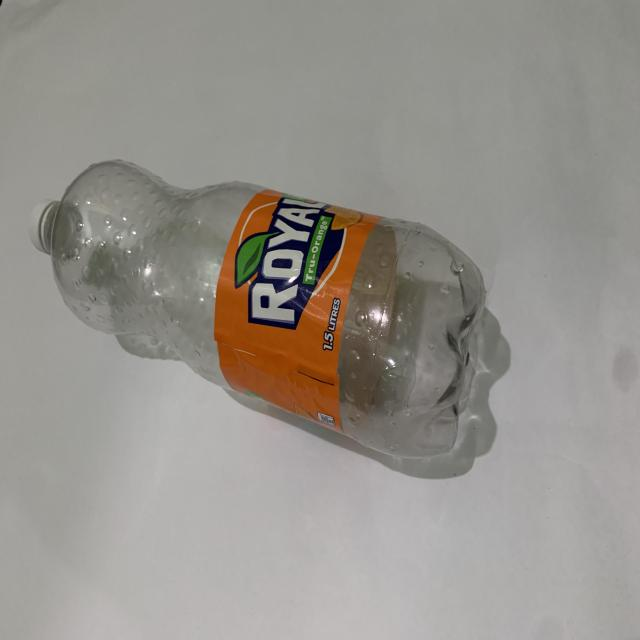bottle: (24, 154, 488, 466)
